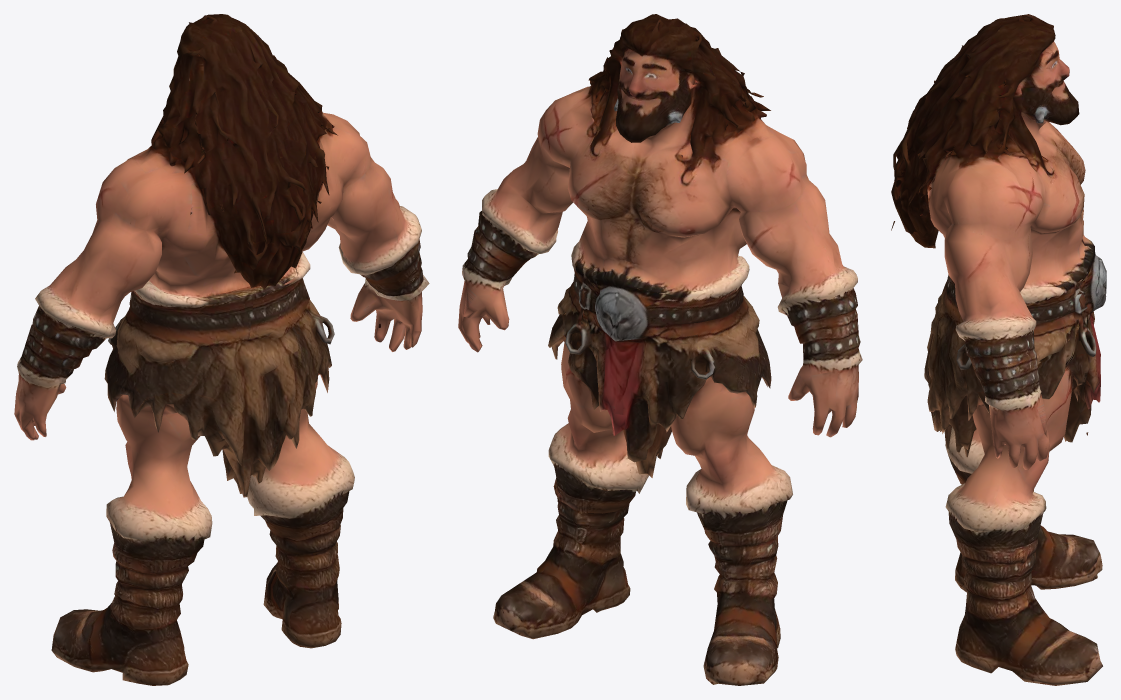
Rendered from berserker.glb.
The picture shows the model from 3 angles, left to right: view 1: azimuth 30°, elevation 25°; view 2: azimuth 150°, elevation 25°; view 3: azimuth 270°, elevation 25°; orthographic projection. The views are drawn at different scales.
Parts seen in each view (by area): view 1: model; view 2: model; view 3: model.
Part boxes in pixels (left/top/right/bottom): model: left=14, top=14, right=429, bottom=685; model: left=458, top=14, right=862, bottom=685; model: left=891, top=14, right=1106, bottom=685.
Size of the model in its own units: 0.663 by 0.9973 by 0.3195.
1 material, 1 textured.
